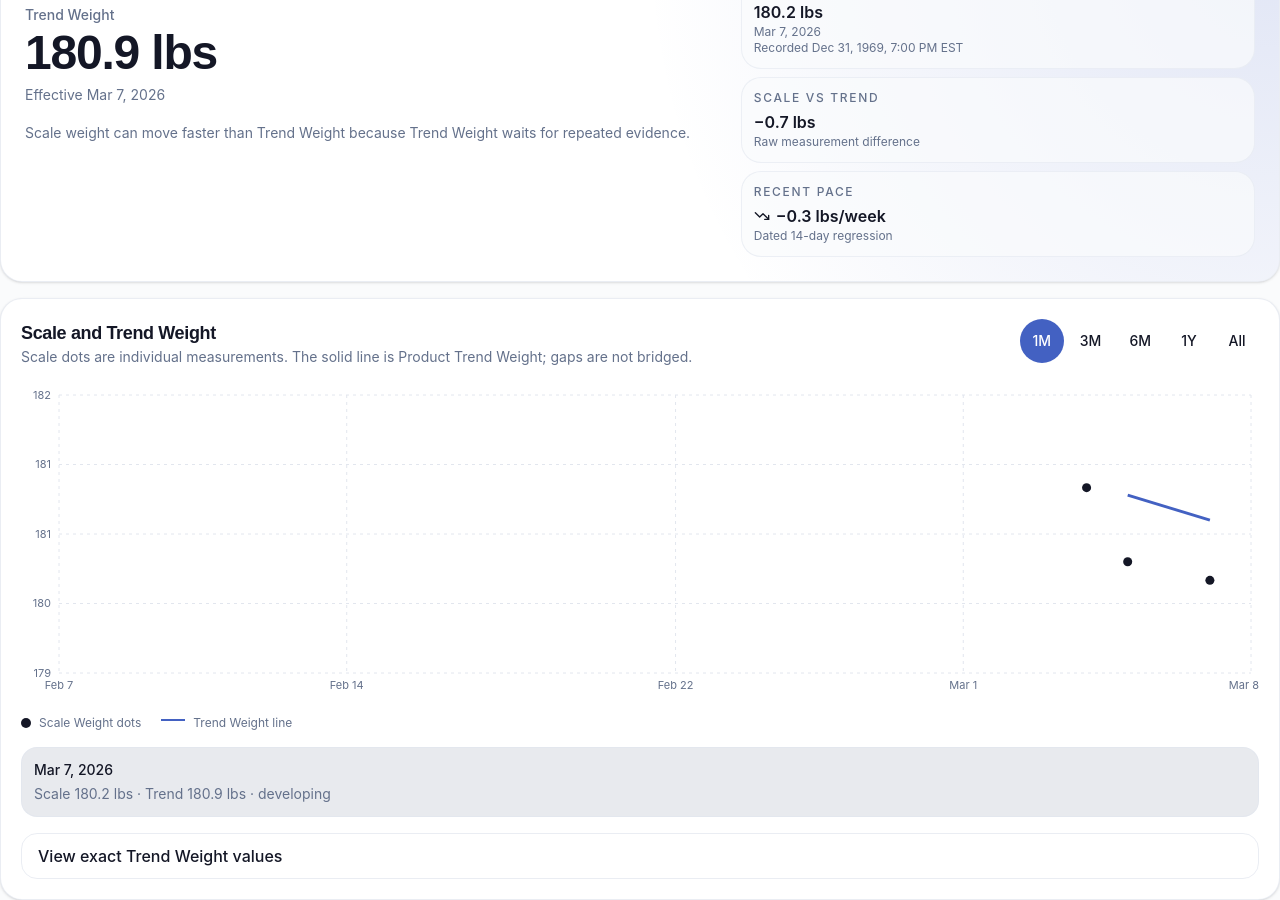
it: WeightTrendChart › keeps every compact plotted value keyboard-accessible through an exact table
(page scrolled)
Expected: the picture named "Trend Weight chart" is shown, [21,383,1259,703]
Click the heading "View exact Trend Weight values": (160, 856) [38,846,282,866]
(page scrolled)
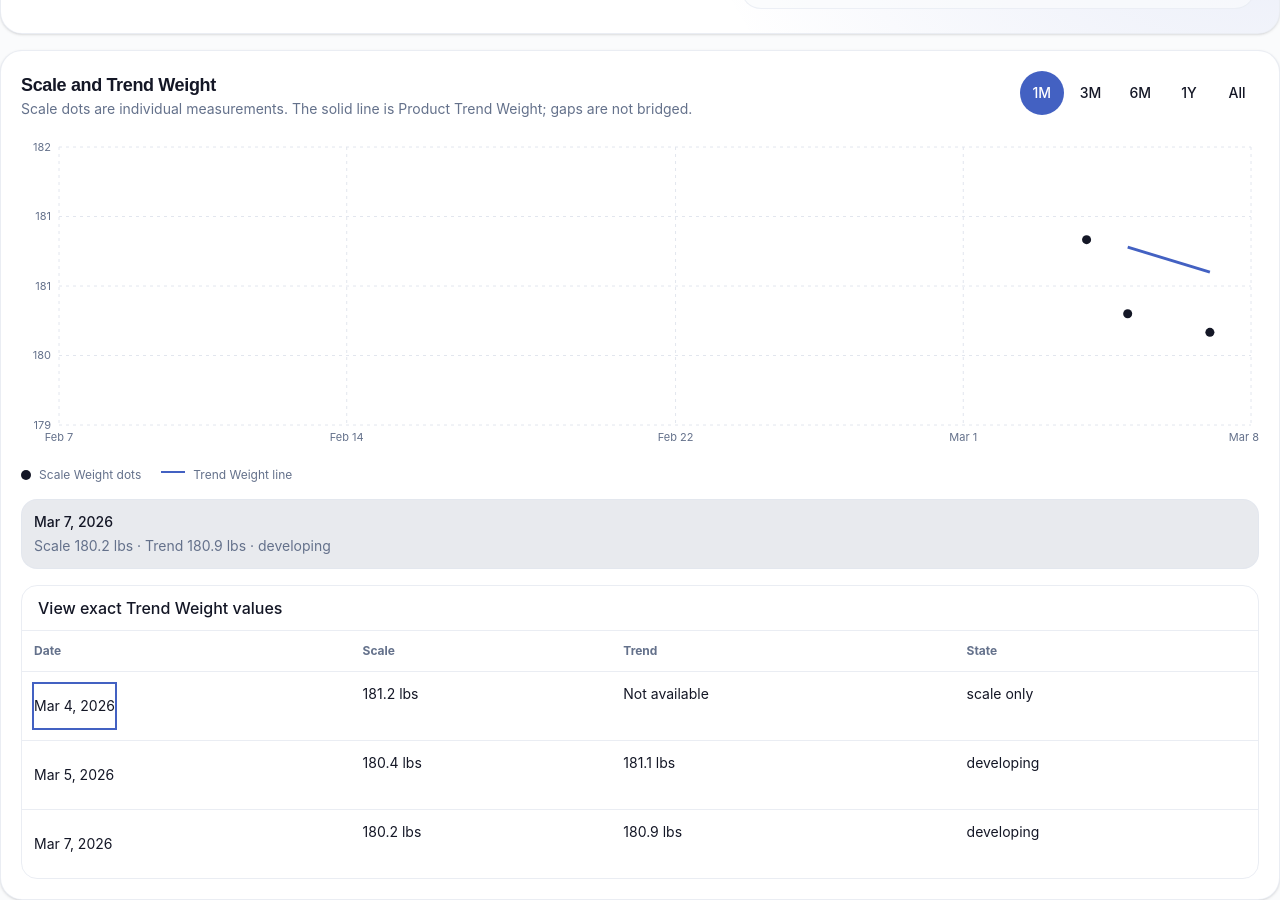
Press Enter in the button named "Inspect Mar 4, 2026", box [34,684,115,728]
Click the button named "Inspect Mar 4, 2026": (74, 706) [34,684,115,728]
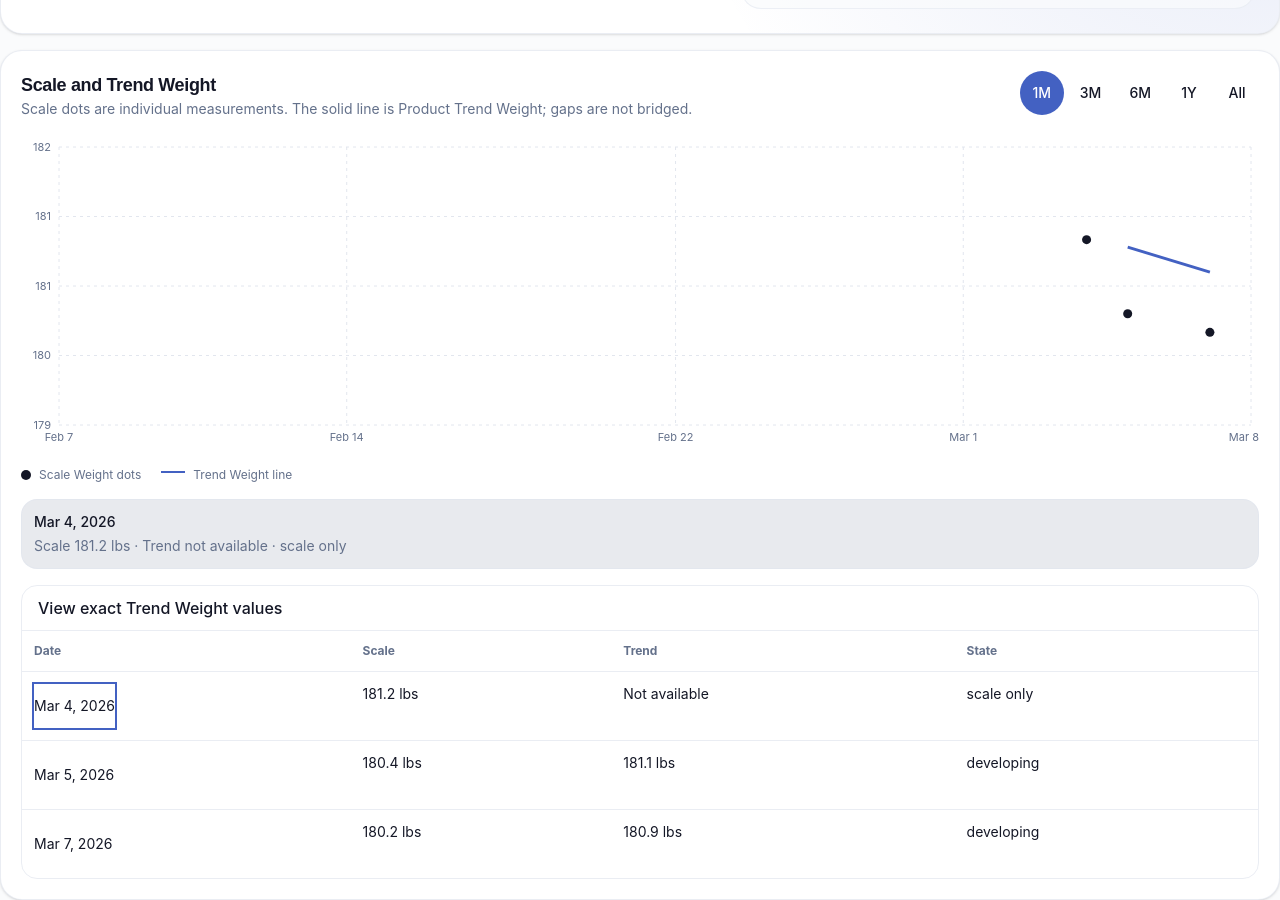
Result: the number of rows is 4 at [22,631,1258,671]; [22,672,1258,740]; [22,740,1258,810]; [22,810,1258,878]
Result: the element named "Selected Trend Weight point" reads "Mar 4, 2026 Scale 181.2 lbs · Trend not available · scale only" at [21,499,1259,569]
